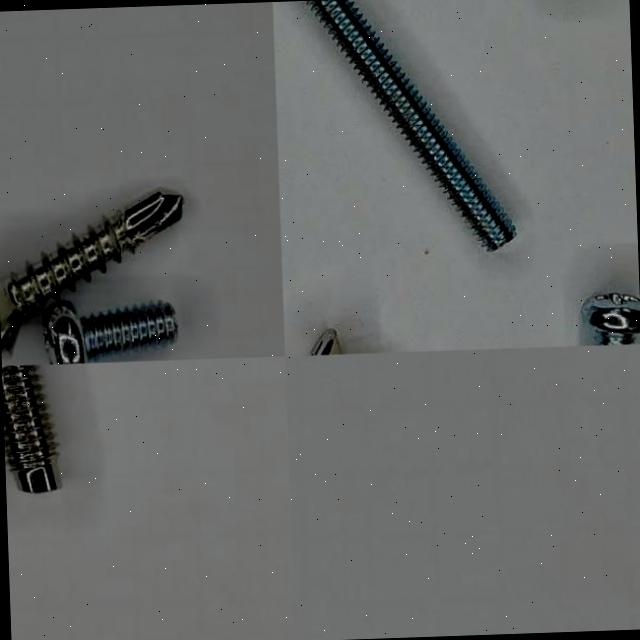Screw: (305, 0, 514, 250), (0, 189, 183, 352), (43, 301, 178, 364), (1, 365, 61, 492), (582, 296, 640, 345)
